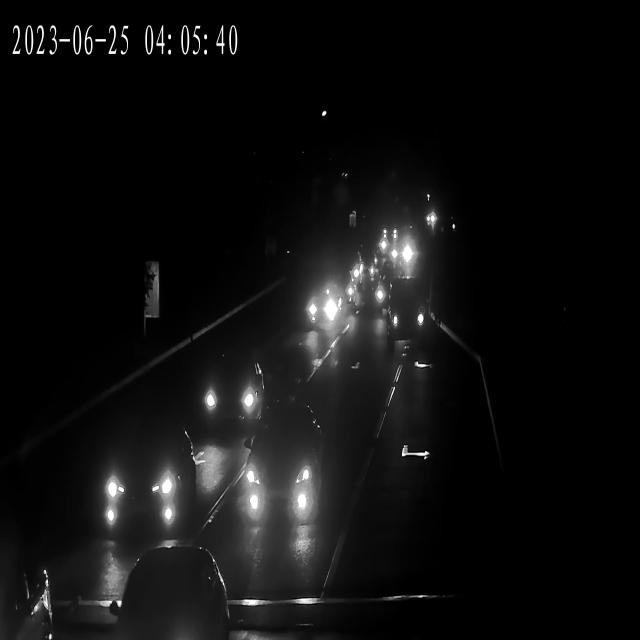Car: (84, 423, 194, 541), (103, 553, 226, 640), (188, 355, 265, 433), (239, 459, 323, 529), (0, 551, 61, 640), (388, 296, 432, 342), (348, 254, 384, 309), (384, 293, 426, 339), (307, 286, 349, 324), (382, 242, 413, 266)
